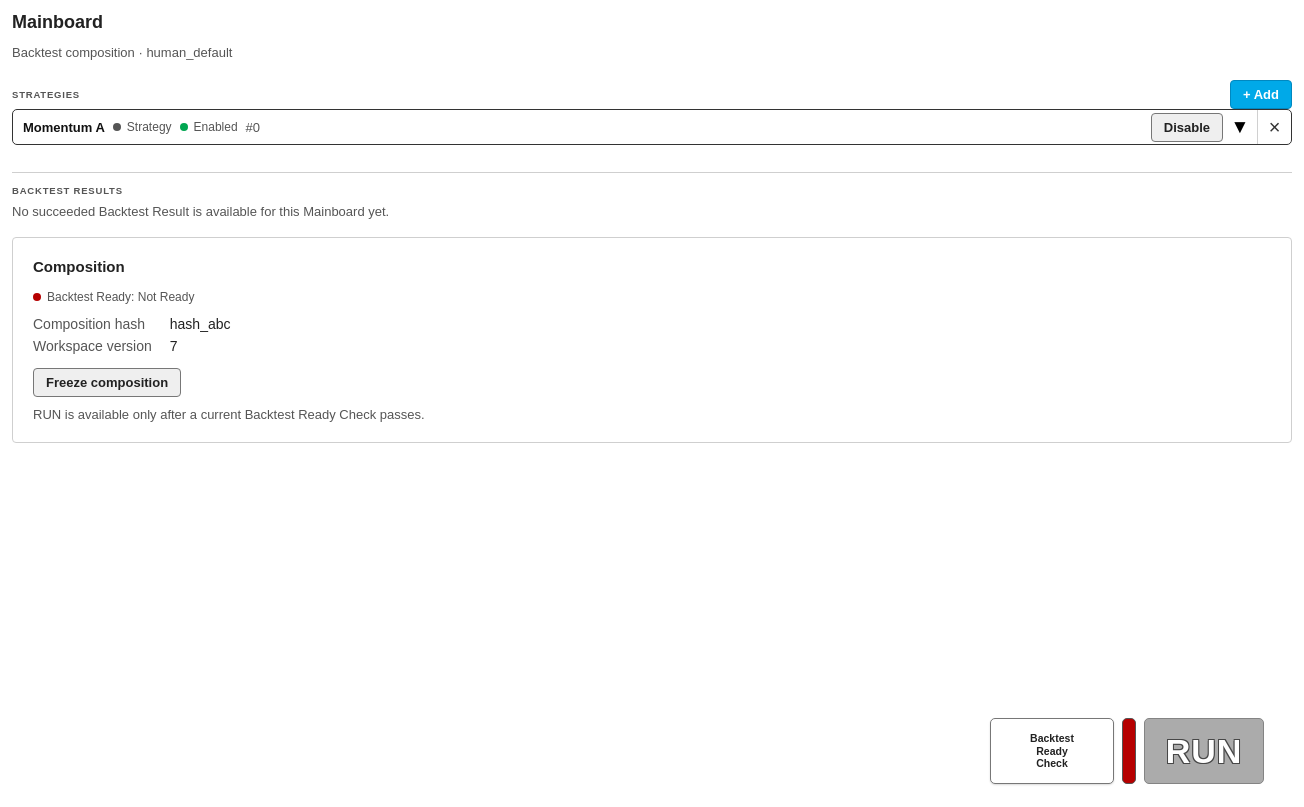
Test case: Mainboard › keeps the ErrorState for a non-404 strategy revision failure (only the two NOT_FOUND codes are calm)
This screenshot has width=1304, height=807.
Click the button named "Expand Momentum A": (1240, 127) x1=1223 y1=110 x2=1257 y2=144
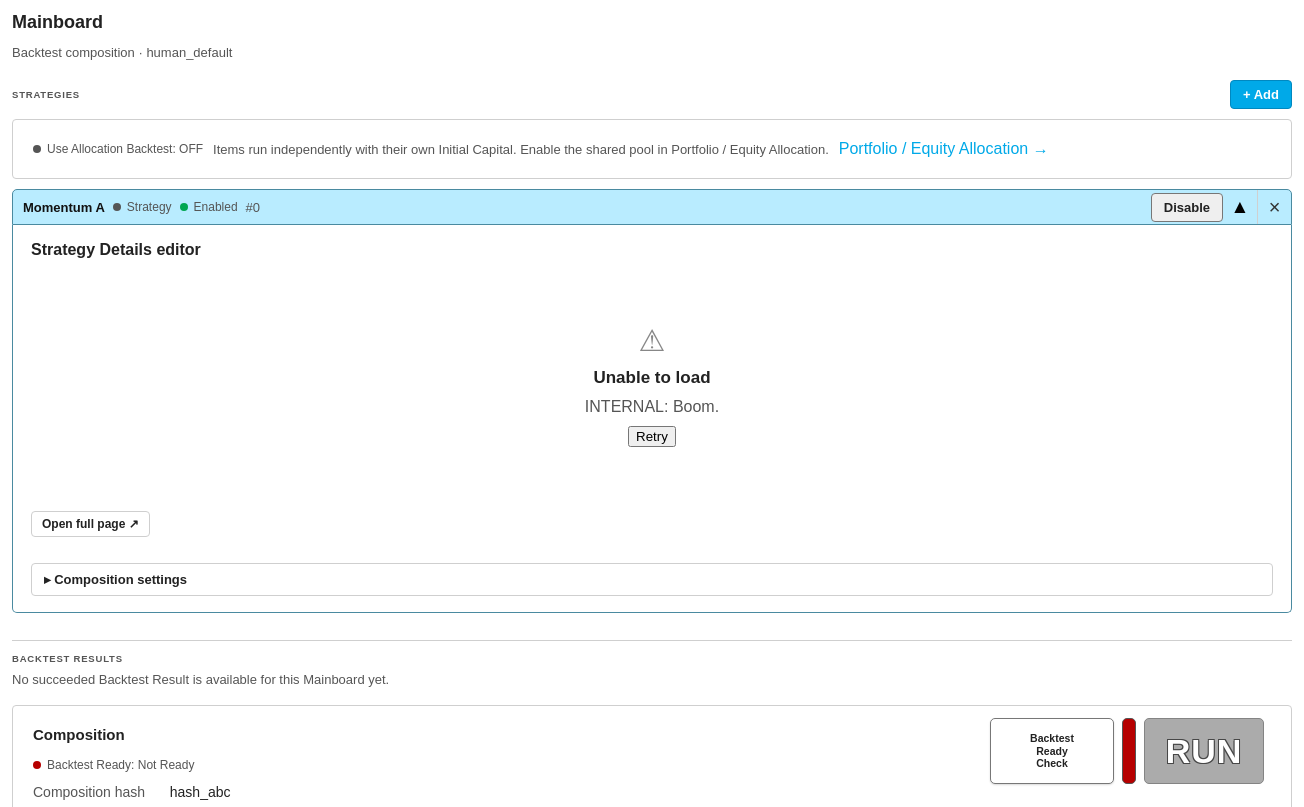
Now the heading "Unable to load" is shown, box x1=593 y1=368 x2=710 y2=388
Now the button "Retry" is shown, box x1=628 y1=426 x2=676 y2=447
